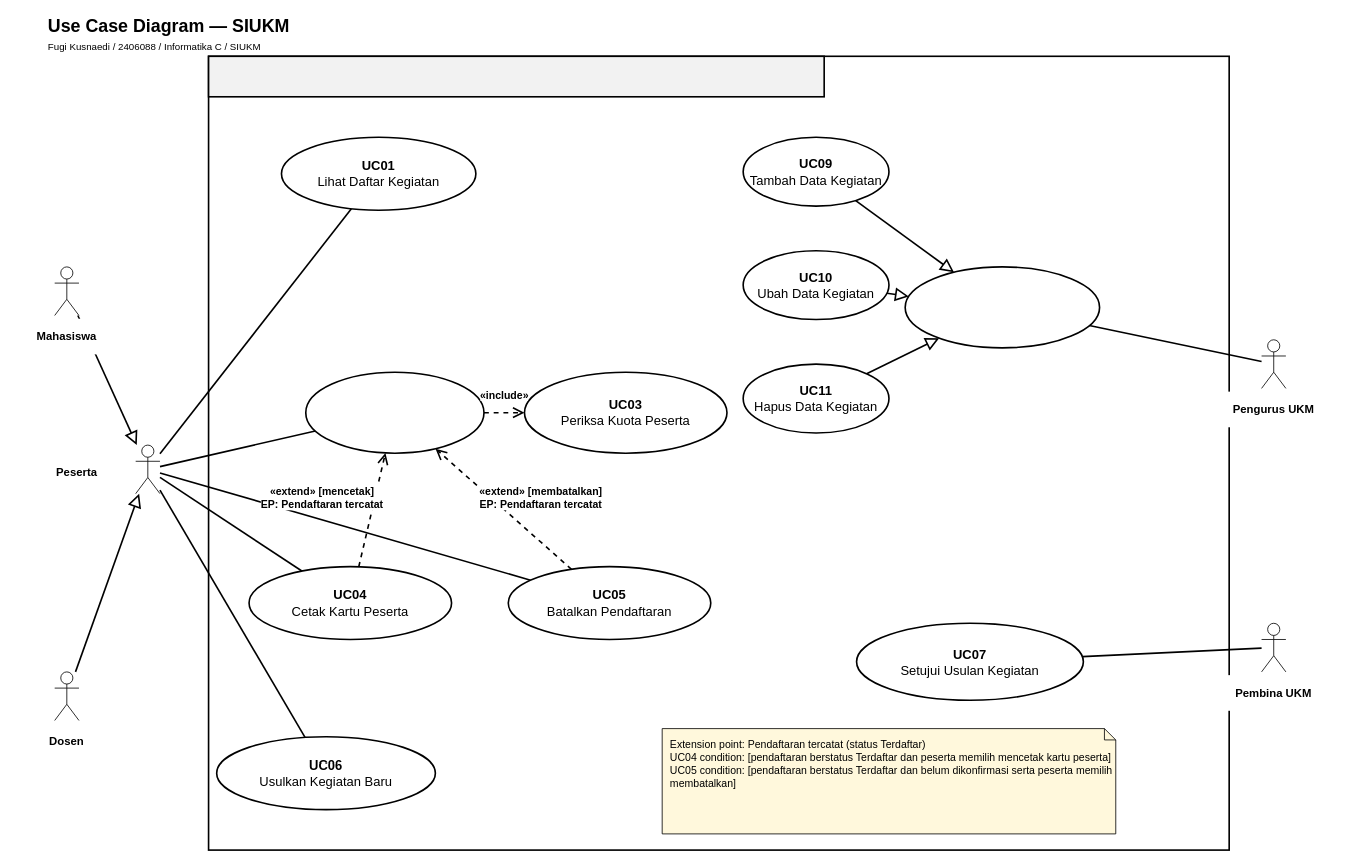
Image size: 1360x864. Some labels were removed from this diagram. The centre of each missing label's shape, as x and y in pixels:
SIUKM — Sistem Informasi Pendaftaran Kegiatan UKM Kampus: the point at 516,76
UC02 Daftar Kegiatan: the point at 394,412
UC08 Kelola Data Kegiatan: the point at 1002,307
